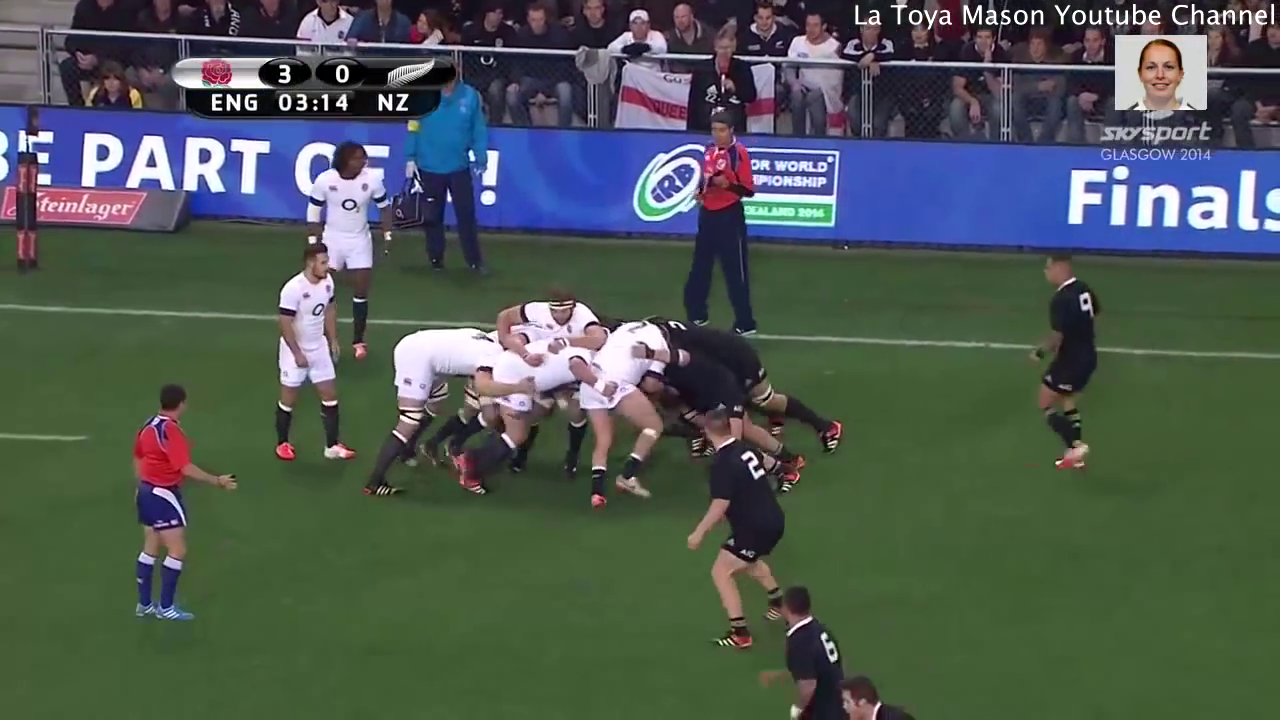player: (106, 372, 246, 636), (446, 322, 620, 511), (356, 312, 510, 514), (681, 400, 801, 658), (644, 304, 853, 452), (667, 100, 771, 352), (261, 236, 360, 474), (297, 127, 389, 370), (583, 300, 678, 530), (1021, 248, 1105, 490), (752, 580, 843, 720), (481, 280, 609, 347), (832, 663, 925, 720)
